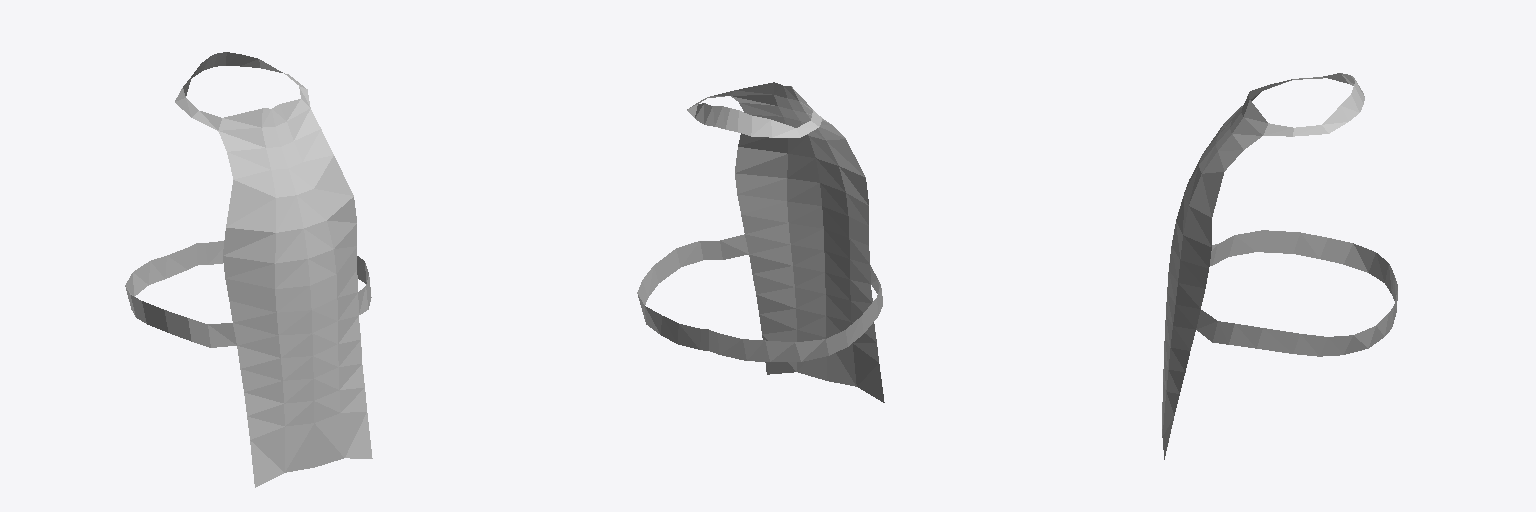
Rendered from apron_zehang.obj.
3 views of the same model, side by side, from view 1: azimuth 30°, elevation 25°; view 2: azimuth 150°, elevation 25°; view 3: azimuth 270°, elevation 25° (orthographic).
Size of the model in its own units: 0.7537 by 1.22 by 0.7427.